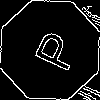P: (25, 25, 81, 74)
